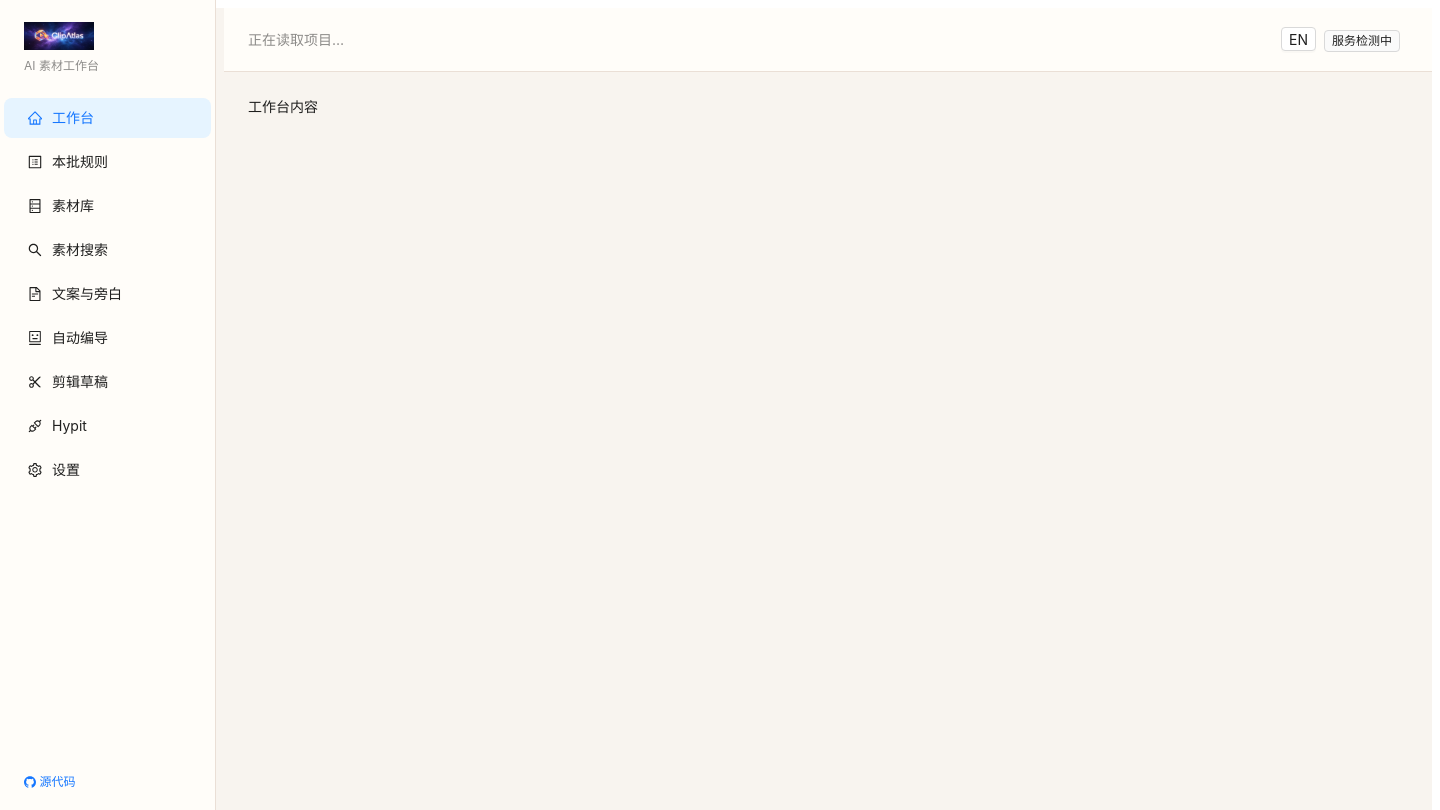
Scenario: AppShell › opens the unified editing draft entry
Click the menu item "剪辑草稿". click: (68, 381)
box: top-left (28, 373), bottom-right (108, 390)
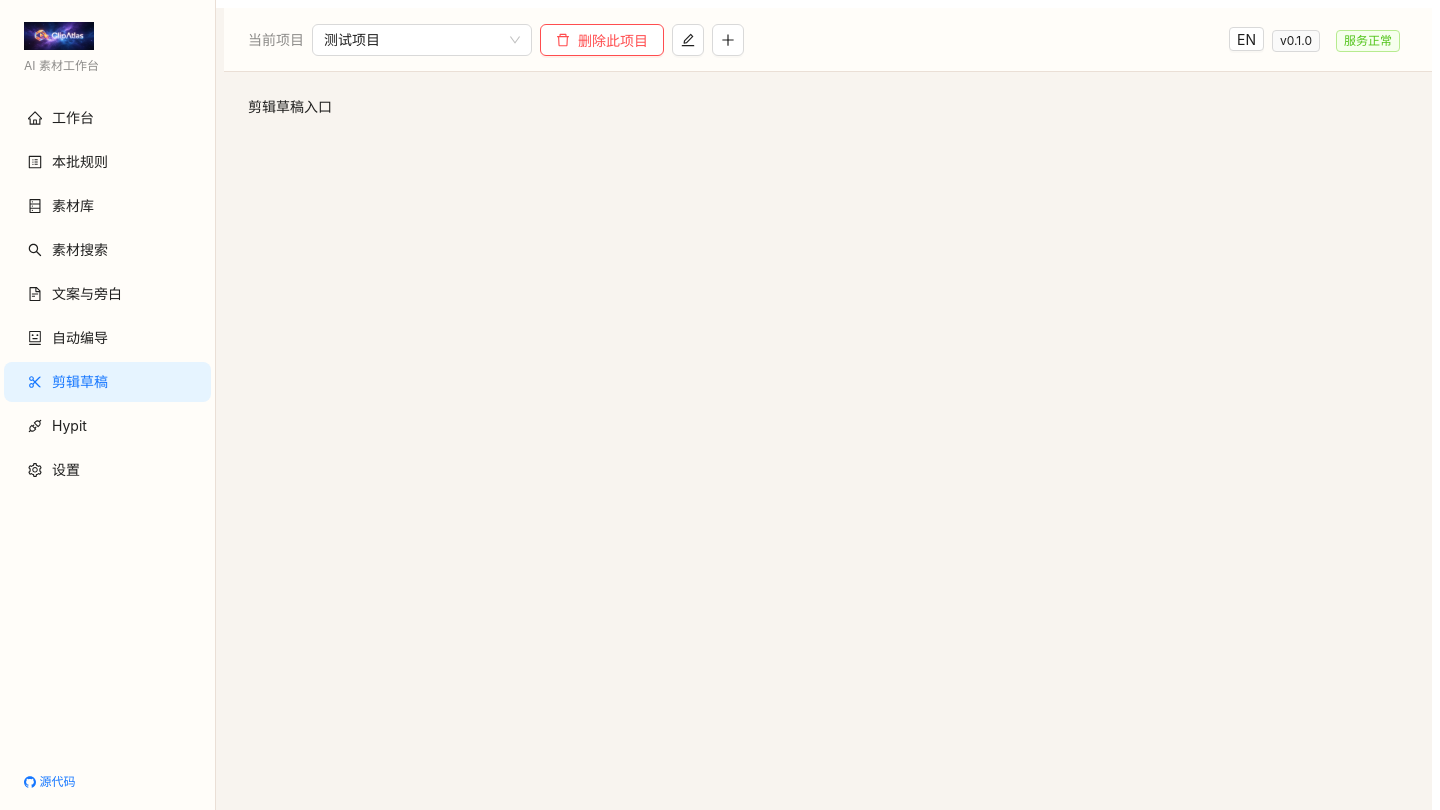
Now the text "剪辑草稿入口" is shown, box top-left (248, 98), bottom-right (332, 115)
